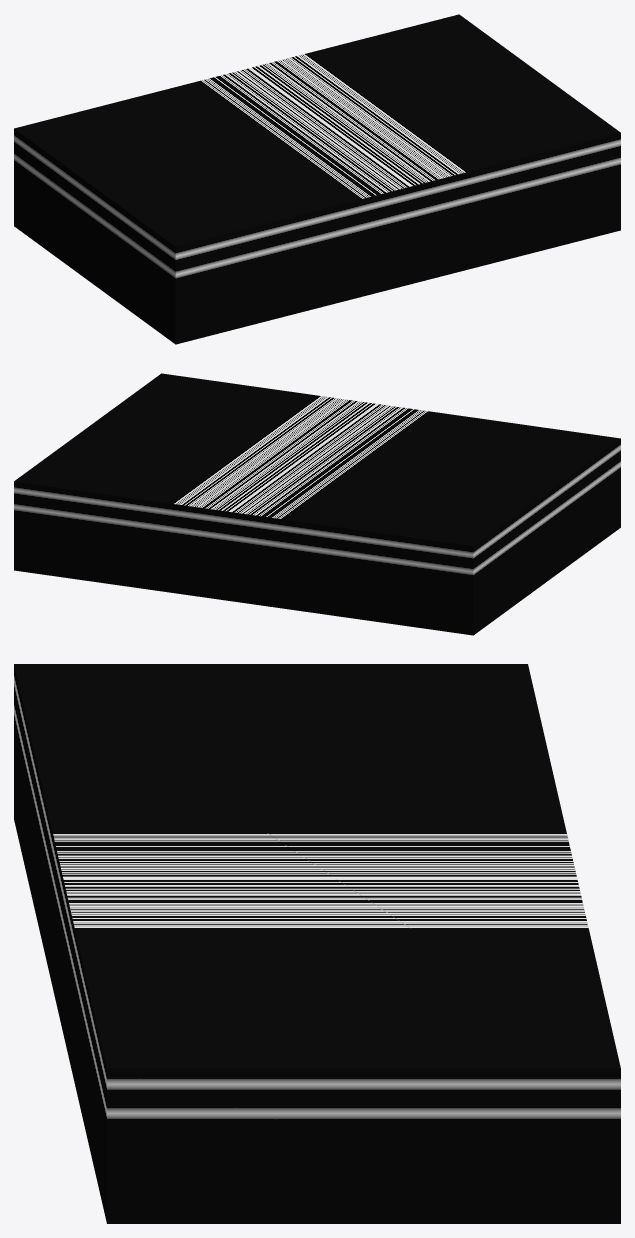
3 renders of one model, top to bottom at view 1: azimuth 30°, elevation 25°; view 2: azimuth 150°, elevation 25°; view 3: azimuth 270°, elevation 25°, orthographic. The views are drawn at different scales.
Parts seen in each view (by area): view 1: Cube; view 2: Cube; view 3: Cube.
Boxes of the visible parts, x1,y1,x2,y2 form: Cube: (14, 14, 620, 344); Cube: (14, 373, 620, 635); Cube: (14, 664, 620, 1223).
Bounding box in the file's own units: 1.02 × 0.2472 × 0.7086.
1 material, 1 textured.
